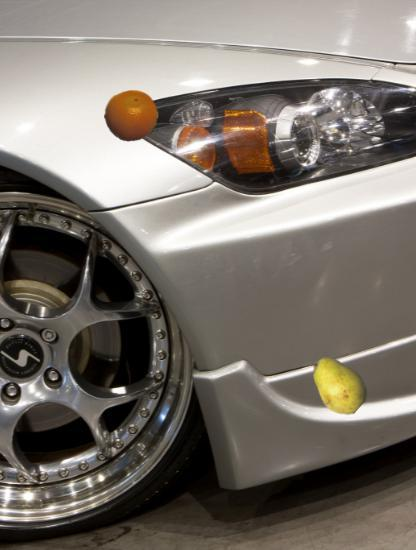Grapefruit: (104, 89, 159, 144)
Pear: (304, 352, 370, 418)
